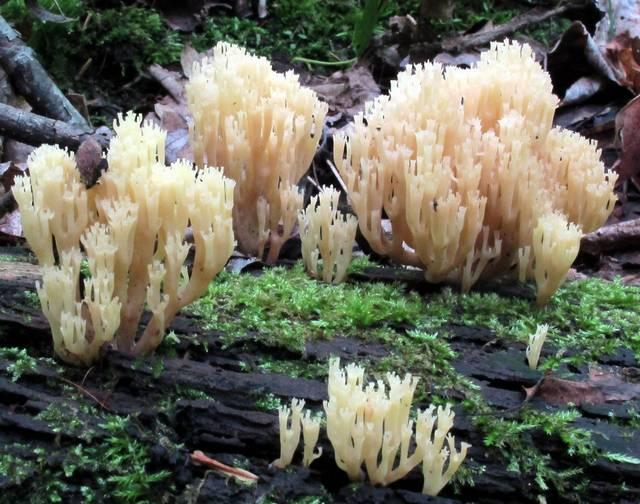Edible Mushroom: (328, 37, 619, 307), (10, 109, 236, 366), (183, 39, 329, 265), (268, 355, 471, 496), (296, 183, 358, 284)
